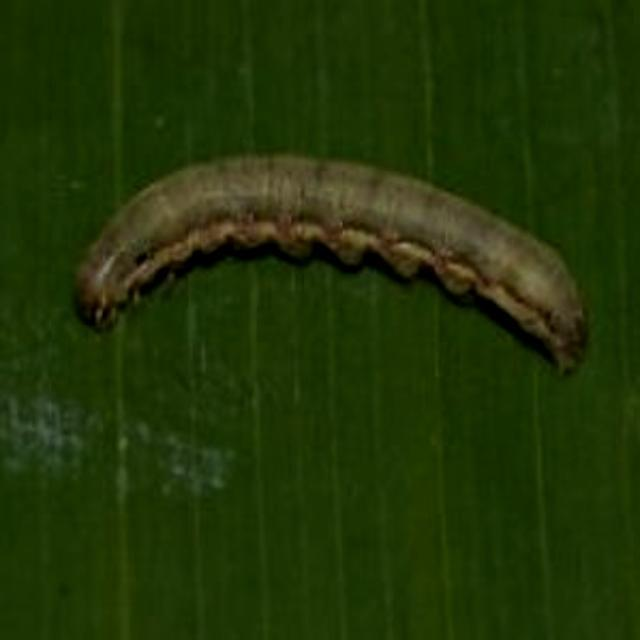Tobacco cutworm: (58, 115, 608, 422)
